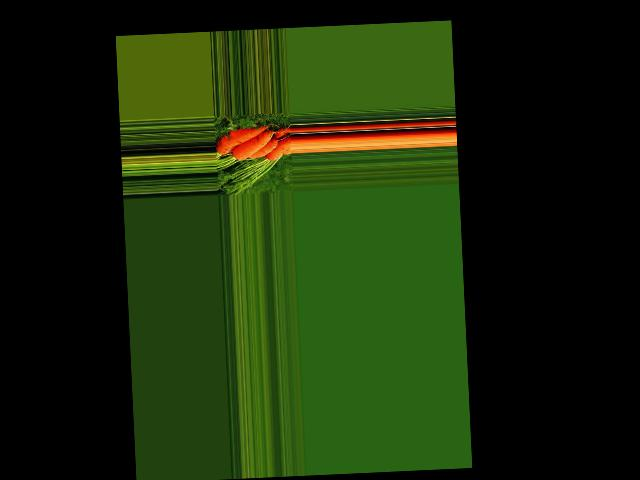carrot: (265, 134, 289, 164)
